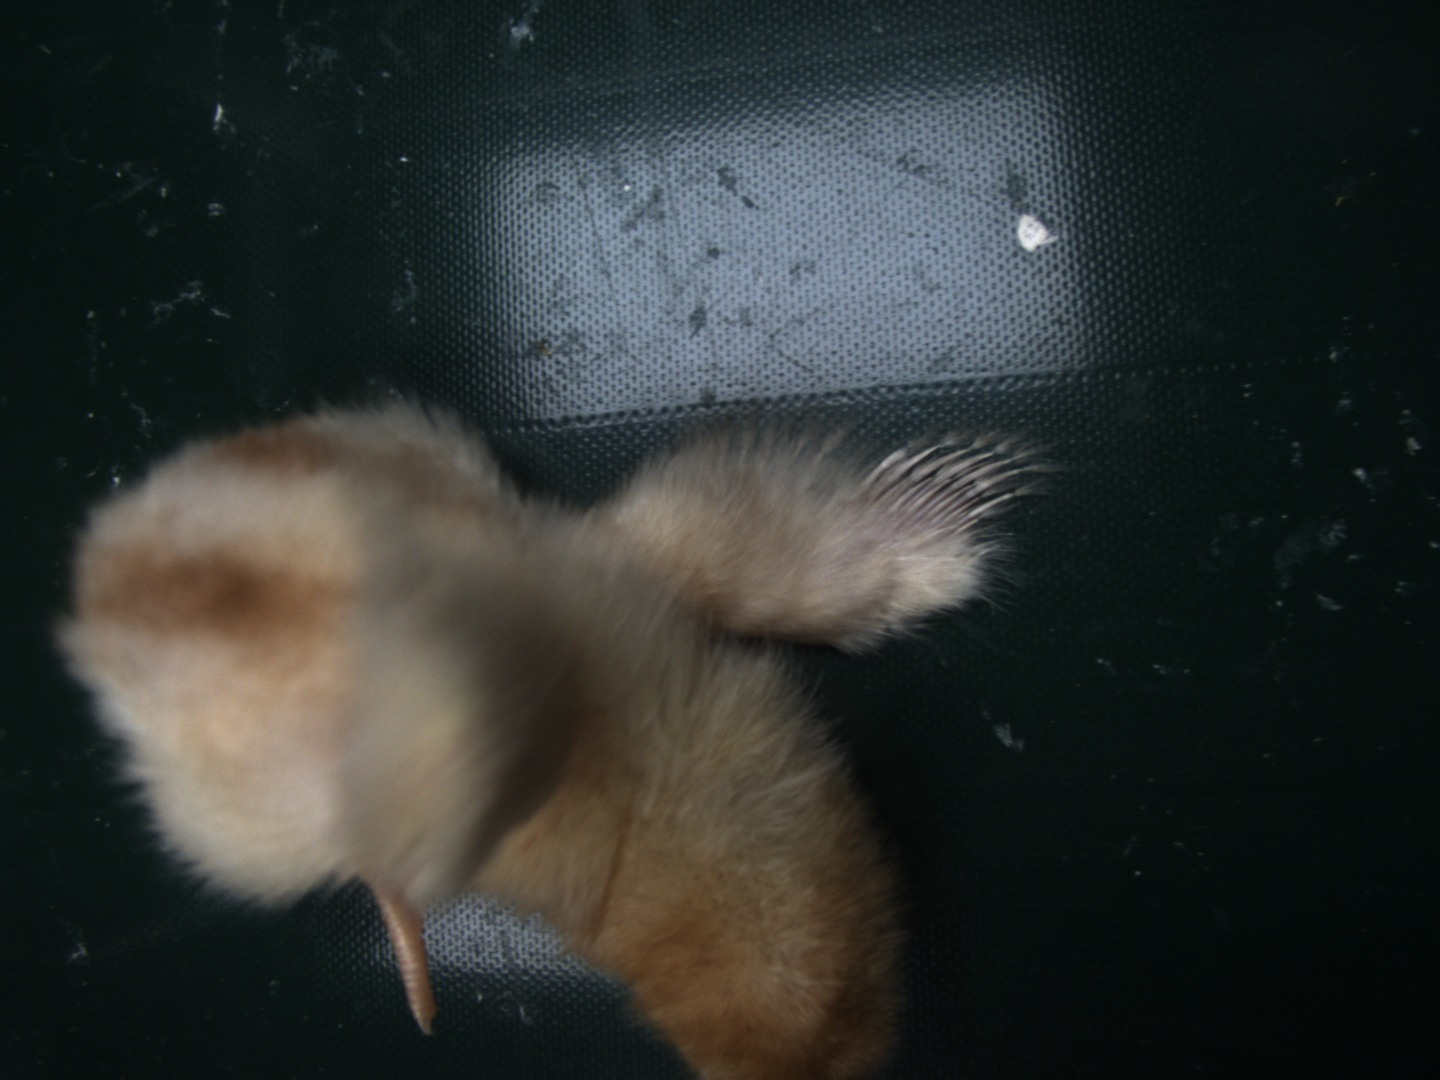female: (846, 439, 1017, 541)
